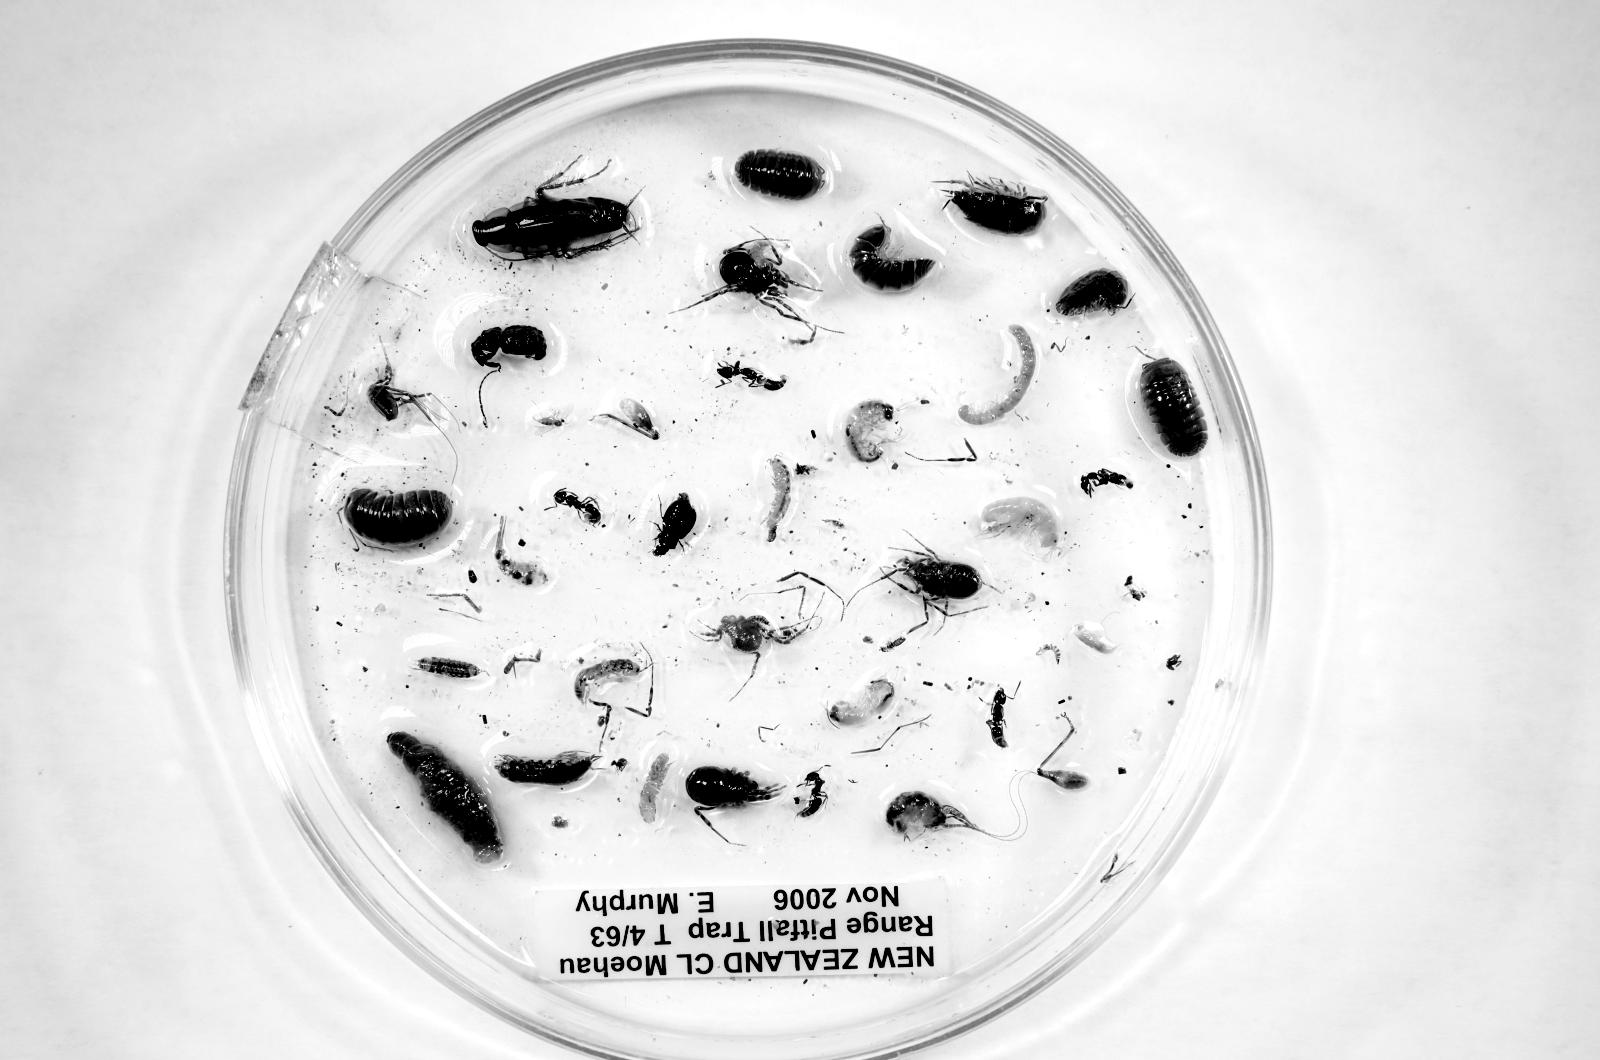amphipoda: (977, 497, 1057, 548), (846, 400, 902, 463), (827, 677, 894, 726)
blattodea: (472, 160, 636, 259)
coleoptera: (472, 325, 548, 368), (653, 493, 697, 556)
collembola: (1074, 623, 1116, 654), (880, 635, 906, 652)
diplopoda: (959, 325, 1036, 425)
diptera: (535, 406, 572, 428)
formicidae: (717, 362, 786, 392), (553, 490, 601, 524), (1080, 468, 1133, 497), (797, 771, 828, 817), (986, 689, 1008, 748)
isopoda: (1138, 358, 1207, 457), (344, 489, 453, 548), (850, 225, 935, 292), (948, 176, 1047, 234), (734, 149, 827, 200), (1055, 269, 1131, 316), (495, 751, 597, 786), (575, 659, 643, 703), (766, 459, 791, 542), (640, 754, 669, 822), (417, 657, 480, 678)
opiliones: (671, 235, 834, 344), (368, 347, 456, 440), (888, 556, 982, 616), (710, 614, 822, 653), (686, 767, 784, 810)
orthoptera: (886, 791, 982, 839)
